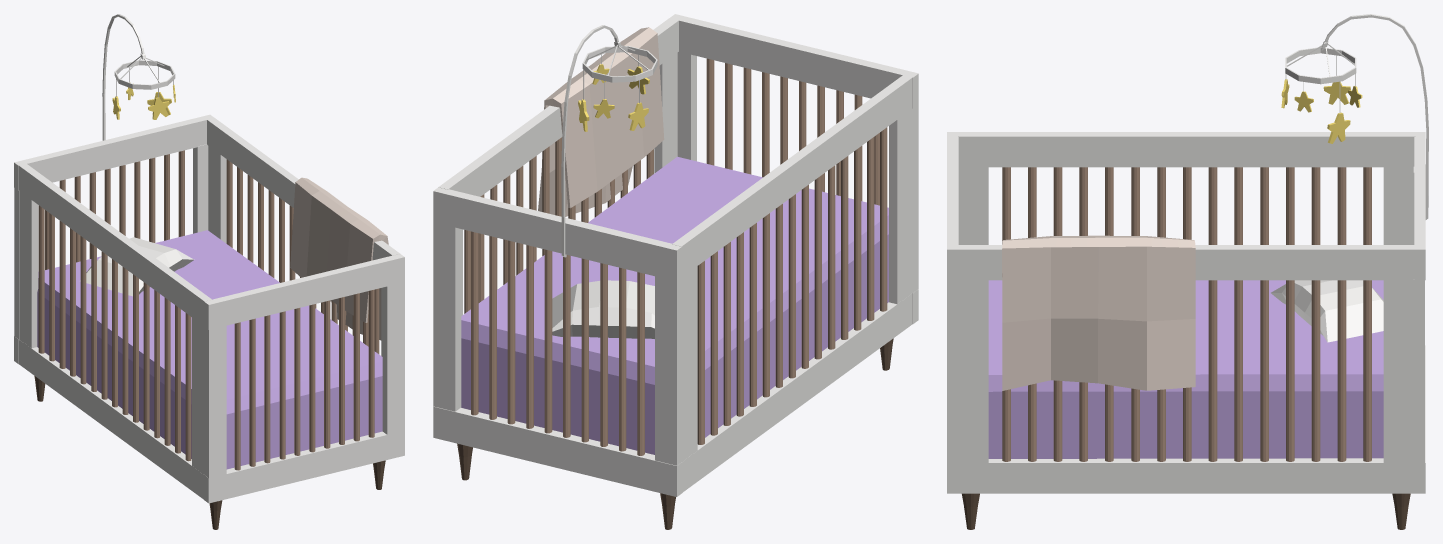
The model's file is Crib_231109.glb.
The picture shows the model from 3 angles, left to right: view 1: azimuth 30°, elevation 25°; view 2: azimuth 150°, elevation 25°; view 3: azimuth 270°, elevation 25°; orthographic projection. The views are drawn at different scales.
Visible parts, largest first — view 1: Crib; view 2: Crib; view 3: Crib.
Part boxes in pixels (x1=…): Crib: x1=14, y1=14, x2=404, y2=529; Crib: x1=433, y1=14, x2=918, y2=529; Crib: x1=947, y1=14, x2=1428, y2=529.
Size of the model in its own units: 1.25 by 2.09 by 1.98.
Materials: 1 (1 with a texture image).
